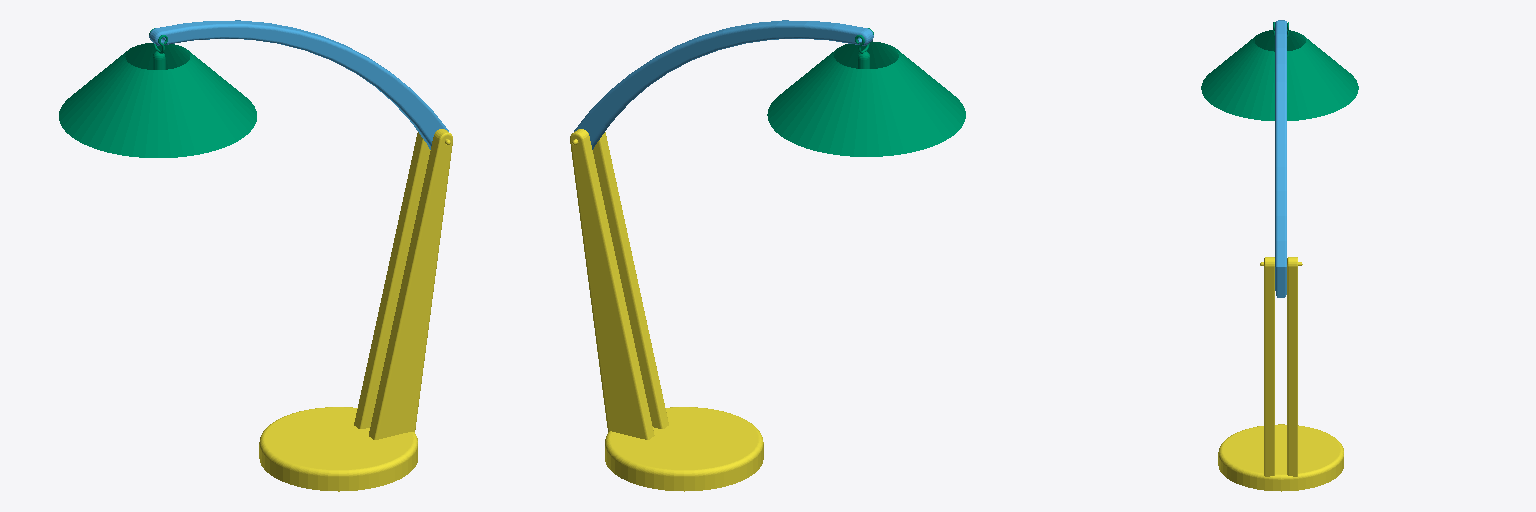
robot.urdf — partnet_4604090264ab99ba6c1400a7733f9e62:
<?xml version="1.0" ?>
<robot name="partnet_4604090264ab99ba6c1400a7733f9e62">
	<link name="base"/>
	<link name="link_0">
		<visual name="lamp_body_slant_bar-19">
			<origin xyz="0 -0.280879048588869 0.4802431156491047"/>
			<geometry>
				<mesh filename="textured_objs/original-6.obj"/>
			</geometry>
		</visual>
		<collision>
			<origin xyz="0 -0.280879048588869 0.4802431156491047"/>
			<geometry>
				<mesh filename="textured_objs/original-6.obj"/>
			</geometry>
		</collision>
	</link>
	<joint name="joint_0" type="revolute">
		<origin xyz="0 0.280879048588869 -0.4802431156491047"/>
		<axis xyz="1 0 0"/>
		<child link="link_0"/>
		<parent link="link_2"/>
		<limit lower="-0.6408849013323172" upper="0.9738937226128358"/>
	</joint>
	<link name="link_1">
		<visual name="lamp_shade-11">
			<origin xyz="0 -0.8412841072687397 -0.5142035242795648"/>
			<geometry>
				<mesh filename="textured_objs/original-8.obj"/>
			</geometry>
		</visual>
		<visual name="light_socket-9">
			<origin xyz="0 -0.8412841072687397 -0.5142035242795648"/>
			<geometry>
				<mesh filename="textured_objs/original-21.obj"/>
			</geometry>
		</visual>
		<visual name="light_socket-9">
			<origin xyz="0 -0.8412841072687397 -0.5142035242795648"/>
			<geometry>
				<mesh filename="textured_objs/original-16.obj"/>
			</geometry>
		</visual>
		<visual name="light_socket-9">
			<origin xyz="0 -0.8412841072687397 -0.5142035242795648"/>
			<geometry>
				<mesh filename="textured_objs/original-12.obj"/>
			</geometry>
		</visual>
		<visual name="light_bulb-10">
			<origin xyz="0 -0.8412841072687397 -0.5142035242795648"/>
			<geometry>
				<mesh filename="textured_objs/original-19.obj"/>
			</geometry>
		</visual>
		<visual name="light_bulb-10">
			<origin xyz="0 -0.8412841072687397 -0.5142035242795648"/>
			<geometry>
				<mesh filename="textured_objs/original-22.obj"/>
			</geometry>
		</visual>
		<collision>
			<origin xyz="0 -0.8412841072687397 -0.5142035242795648"/>
			<geometry>
				<mesh filename="textured_objs/original-8.obj"/>
			</geometry>
		</collision>
		<collision>
			<origin xyz="0 -0.8412841072687397 -0.5142035242795648"/>
			<geometry>
				<mesh filename="textured_objs/original-21.obj"/>
			</geometry>
		</collision>
		<collision>
			<origin xyz="0 -0.8412841072687397 -0.5142035242795648"/>
			<geometry>
				<mesh filename="textured_objs/original-16.obj"/>
			</geometry>
		</collision>
		<collision>
			<origin xyz="0 -0.8412841072687397 -0.5142035242795648"/>
			<geometry>
				<mesh filename="textured_objs/original-12.obj"/>
			</geometry>
		</collision>
		<collision>
			<origin xyz="0 -0.8412841072687397 -0.5142035242795648"/>
			<geometry>
				<mesh filename="textured_objs/original-19.obj"/>
			</geometry>
		</collision>
		<collision>
			<origin xyz="0 -0.8412841072687397 -0.5142035242795648"/>
			<geometry>
				<mesh filename="textured_objs/original-22.obj"/>
			</geometry>
		</collision>
	</link>
	<joint name="joint_1" type="revolute">
		<origin xyz="0 0.5604050586798708 0.9944466399286696"/>
		<axis xyz="1 0 0"/>
		<child link="link_1"/>
		<parent link="link_0"/>
		<limit lower="-1.66504410640259" upper="0.3490658503988659"/>
	</joint>
	<link name="link_2">
		<visual name="lamp_body_horizontal_bar-20">
			<origin xyz="0 0 0"/>
			<geometry>
				<mesh filename="textured_objs/original-5.obj"/>
			</geometry>
		</visual>
		<visual name="lamp_base_part-16">
			<origin xyz="0 0 0"/>
			<geometry>
				<mesh filename="textured_objs/original-4.obj"/>
			</geometry>
		</visual>
		<visual name="lamp_body_vertical_bar-17">
			<origin xyz="0 0 0"/>
			<geometry>
				<mesh filename="textured_objs/original-3.obj"/>
			</geometry>
		</visual>
		<visual name="lamp_body_vertical_bar-18">
			<origin xyz="0 0 0"/>
			<geometry>
				<mesh filename="textured_objs/original-2.obj"/>
			</geometry>
		</visual>
		<collision>
			<origin xyz="0 0 0"/>
			<geometry>
				<mesh filename="textured_objs/original-5.obj"/>
			</geometry>
		</collision>
		<collision>
			<origin xyz="0 0 0"/>
			<geometry>
				<mesh filename="textured_objs/original-4.obj"/>
			</geometry>
		</collision>
		<collision>
			<origin xyz="0 0 0"/>
			<geometry>
				<mesh filename="textured_objs/original-3.obj"/>
			</geometry>
		</collision>
		<collision>
			<origin xyz="0 0 0"/>
			<geometry>
				<mesh filename="textured_objs/original-2.obj"/>
			</geometry>
		</collision>
	</link>
	<joint name="joint_2" type="fixed">
		<origin rpy="1.570796326794897 0 -1.570796326794897" xyz="0 0 0"/>
		<child link="link_2"/>
		<parent link="base"/>
	</joint>
</robot>

--- What the picture shows (computed from the rendered views, not written in the file) ---
The picture shows the robot from 3 angles, left to right: view 1: azimuth 30°, elevation 25°; view 2: azimuth 150°, elevation 25°; view 3: azimuth 270°, elevation 25°; orthographic projection.
Robot: partnet_4604090264ab99ba6c1400a7733f9e62 — 4 links, 3 joints (2 revolute, 1 fixed); root link base; default pose: every joint at zero.
Links seen in each view (by area): view 1: link_2, link_1, link_0; view 2: link_2, link_1, link_0; view 3: link_2, link_1, link_0.
Boxes of the visible links, x1,y1,x2,y2 form: link_2: (259,129,452,491); link_1: (59,28,256,157); link_0: (149,20,448,149); link_2: (570,129,763,491); link_1: (767,28,965,156); link_0: (574,20,873,149); link_2: (1218,257,1343,491); link_1: (1201,22,1358,120); link_0: (1275,20,1286,297).
Size in the robot's own frame: 1.35 by 0.6182 by 1.62 metres.
Meshes: 11 distinct files referenced, 11 mesh visuals loaded (11 OBJ).
